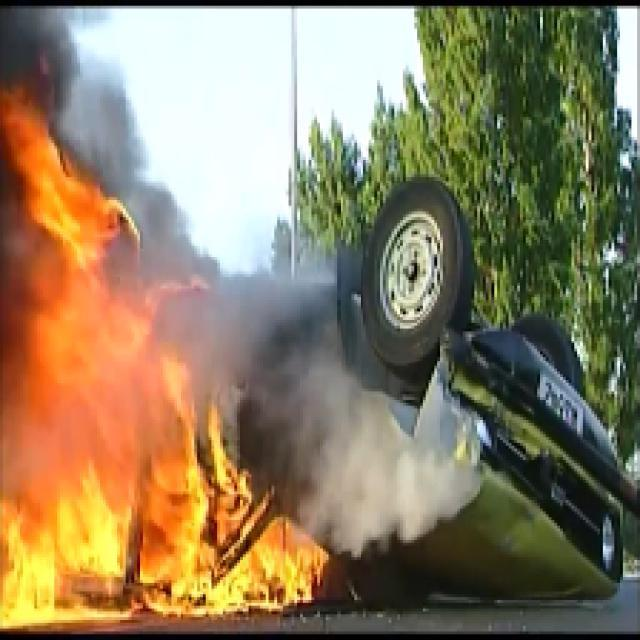Fire: (9, 145, 124, 609), (132, 424, 258, 608)
Smoke: (197, 269, 346, 396), (286, 415, 444, 527)
